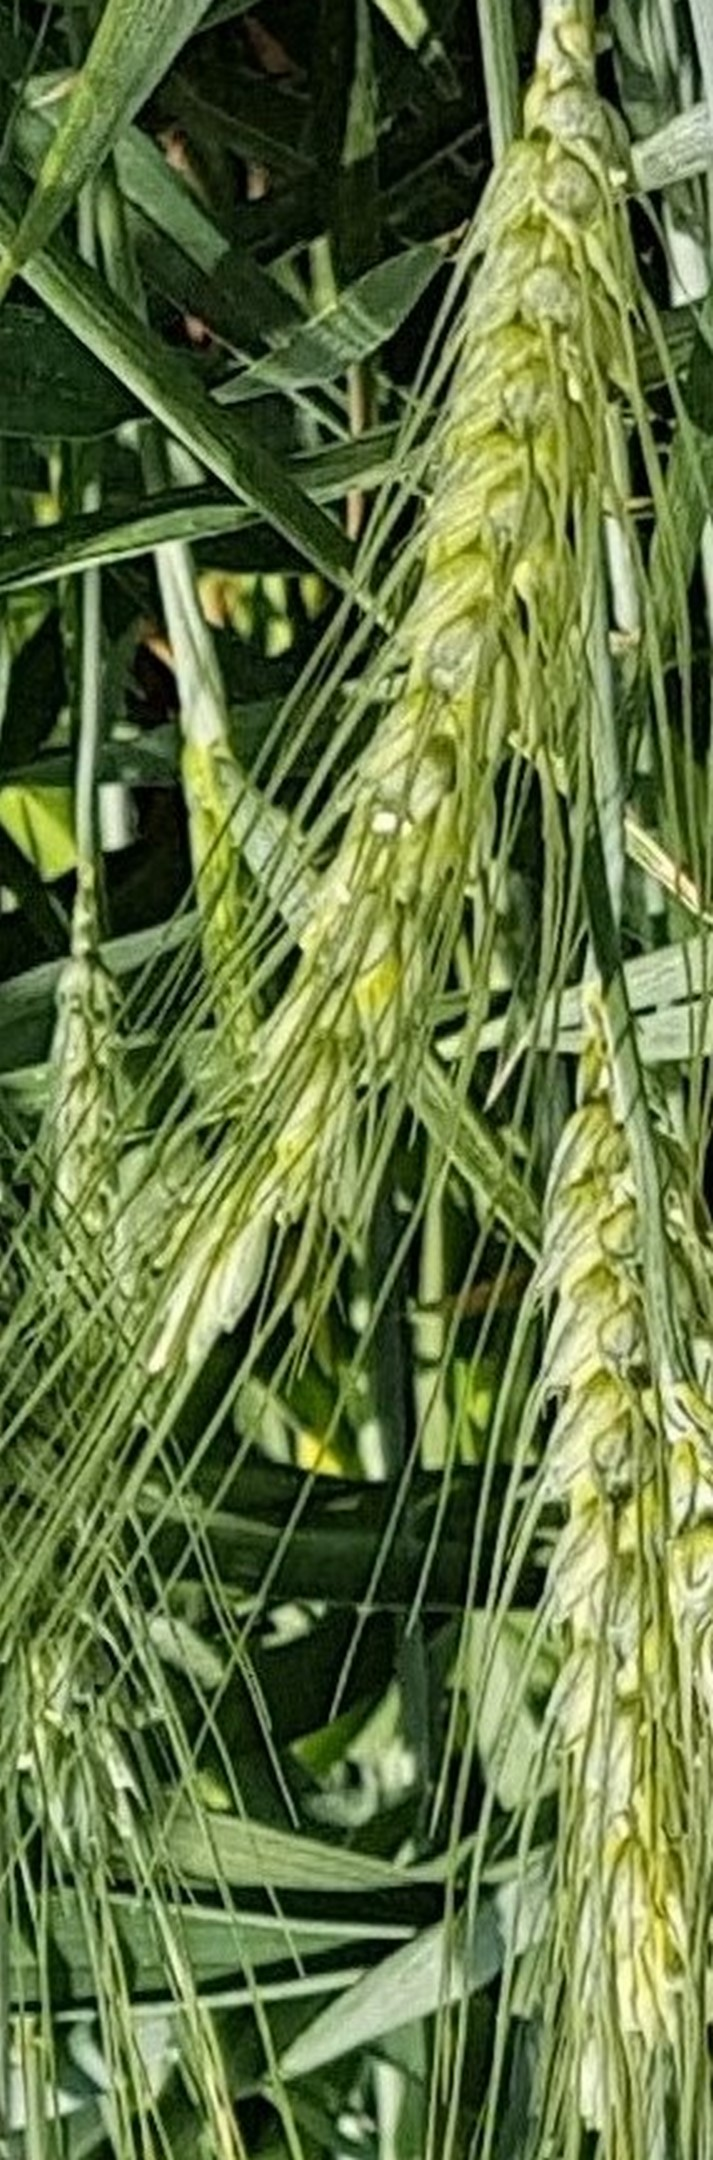Healthy Wheat: (211, 70, 679, 1215)
